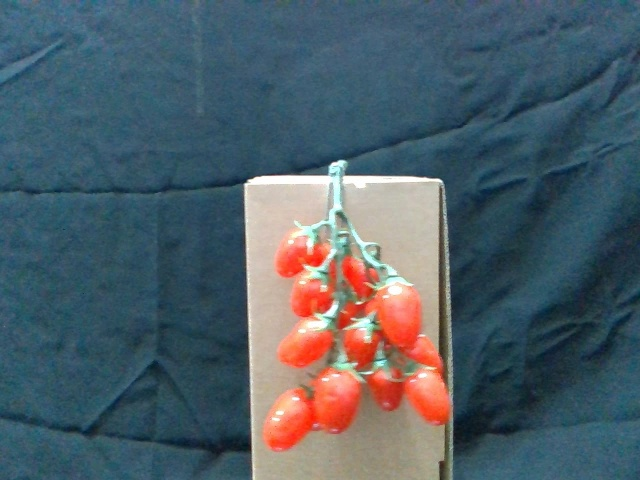tomato: (373, 277, 422, 347), (316, 366, 363, 432), (264, 387, 313, 449), (279, 315, 335, 366), (406, 365, 450, 424), (276, 222, 317, 277), (291, 267, 332, 315), (368, 361, 405, 411), (344, 318, 380, 367)
